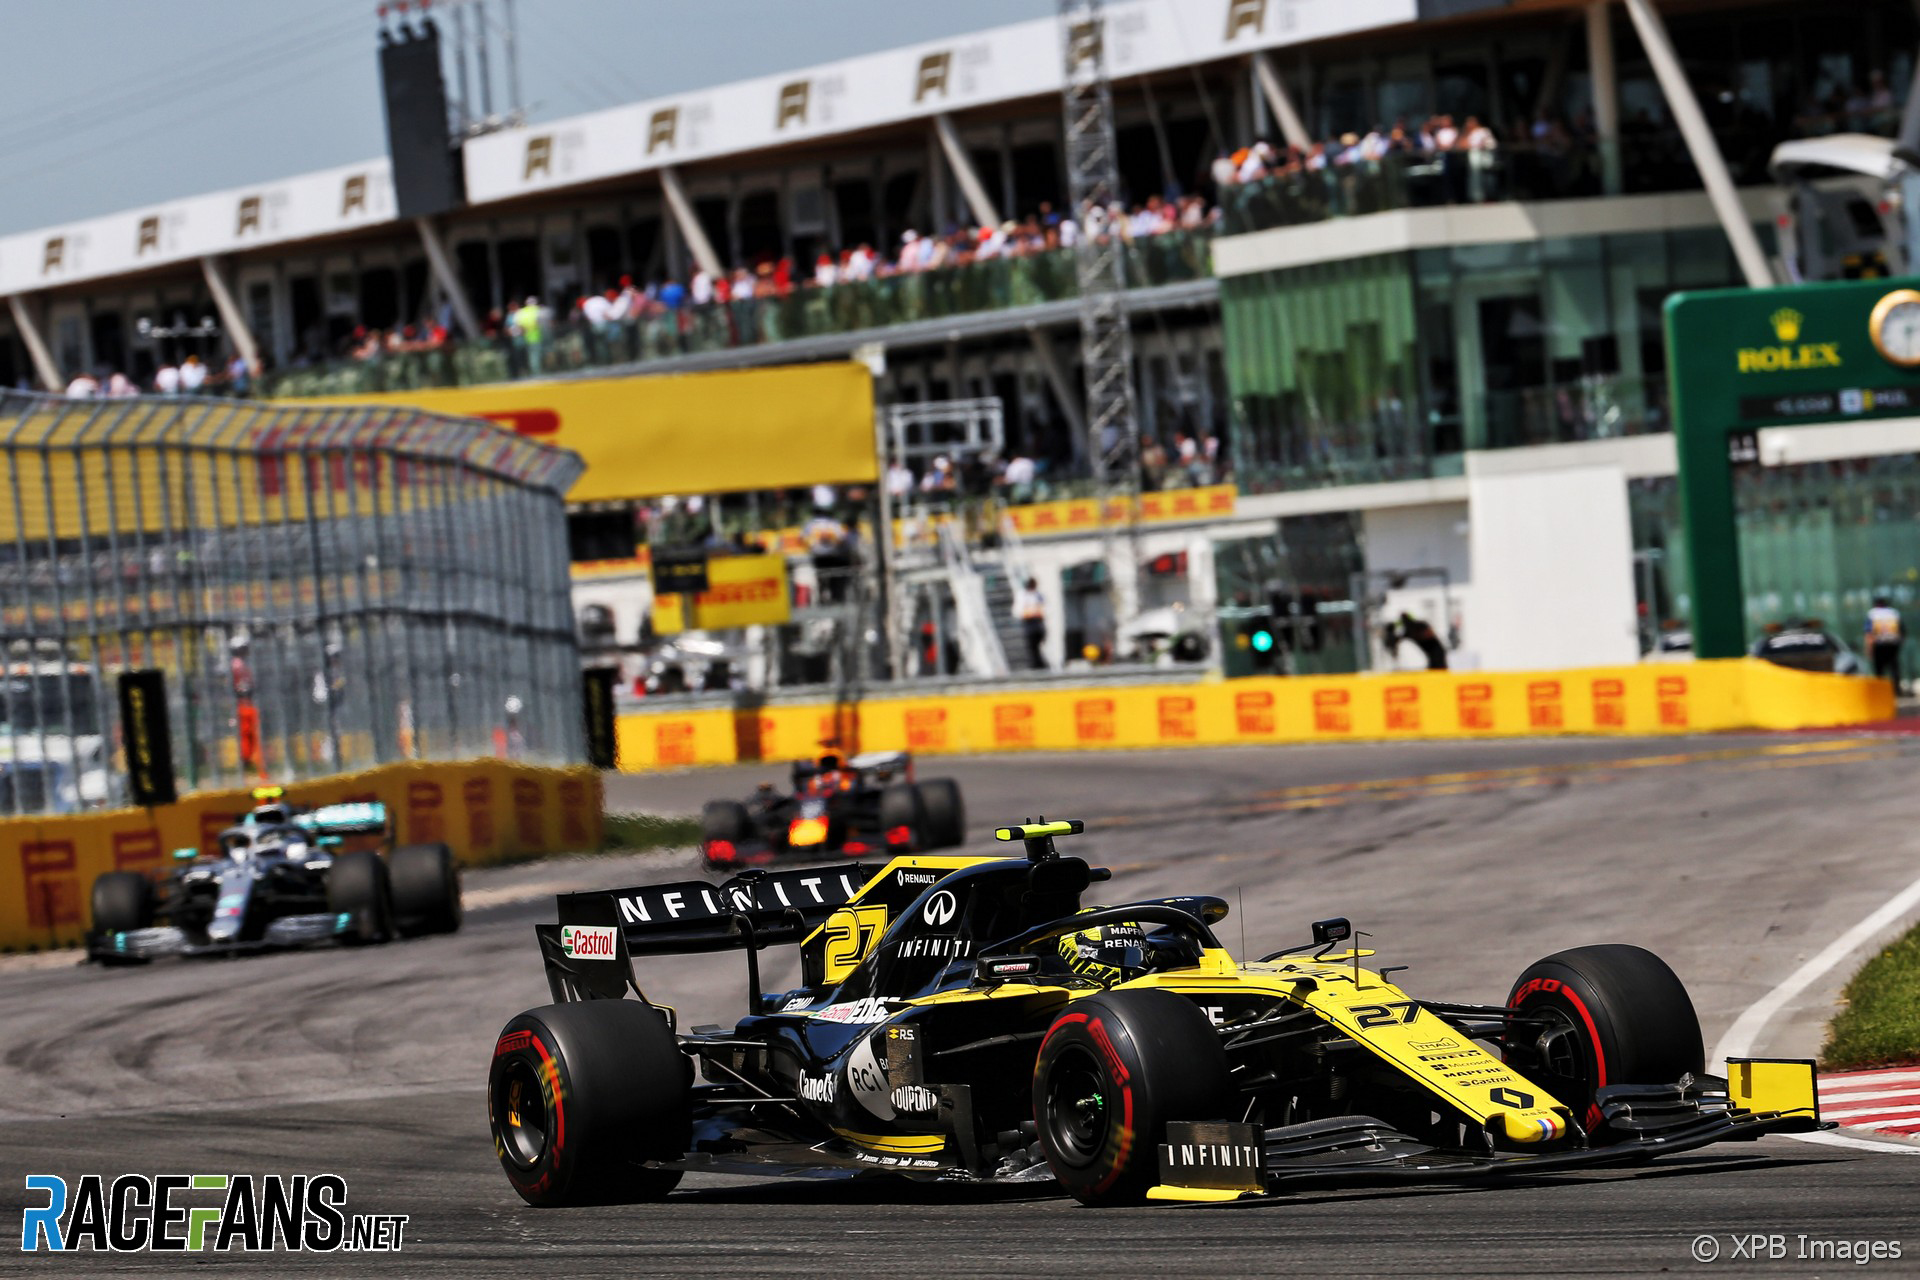F1 Car: (479, 804, 1831, 1217)
